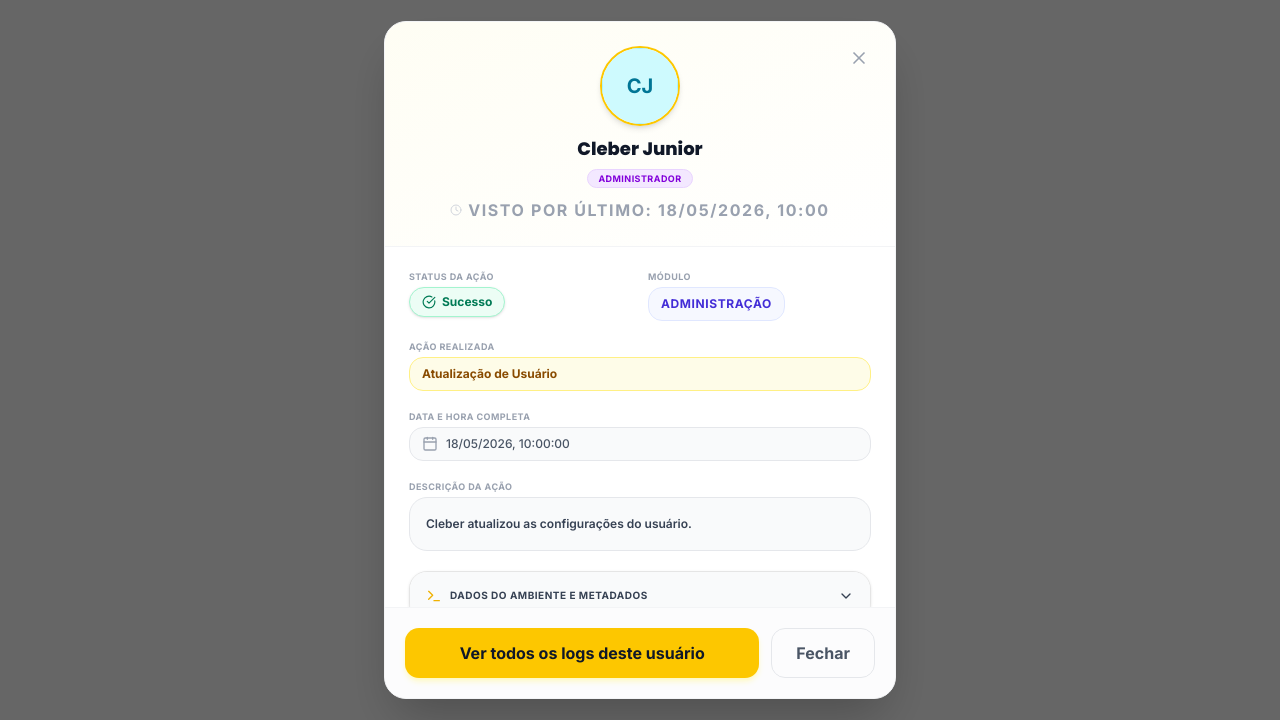
Scenario: LogDetailModal Component › deve manter a seção colapsável fechada por padrão e abri-la ao clicar
Expected: the text "Visto por último: 18/05/2026, 10:00" is shown, [468, 198, 830, 222]
Expected: the text "192.168.0.xxx" is not shown
Note: Clica no botão de expandir dados do ambiente
Click the button "Dados do Ambiente e Metadados".
click(640, 596)  # box [410, 572, 870, 620]
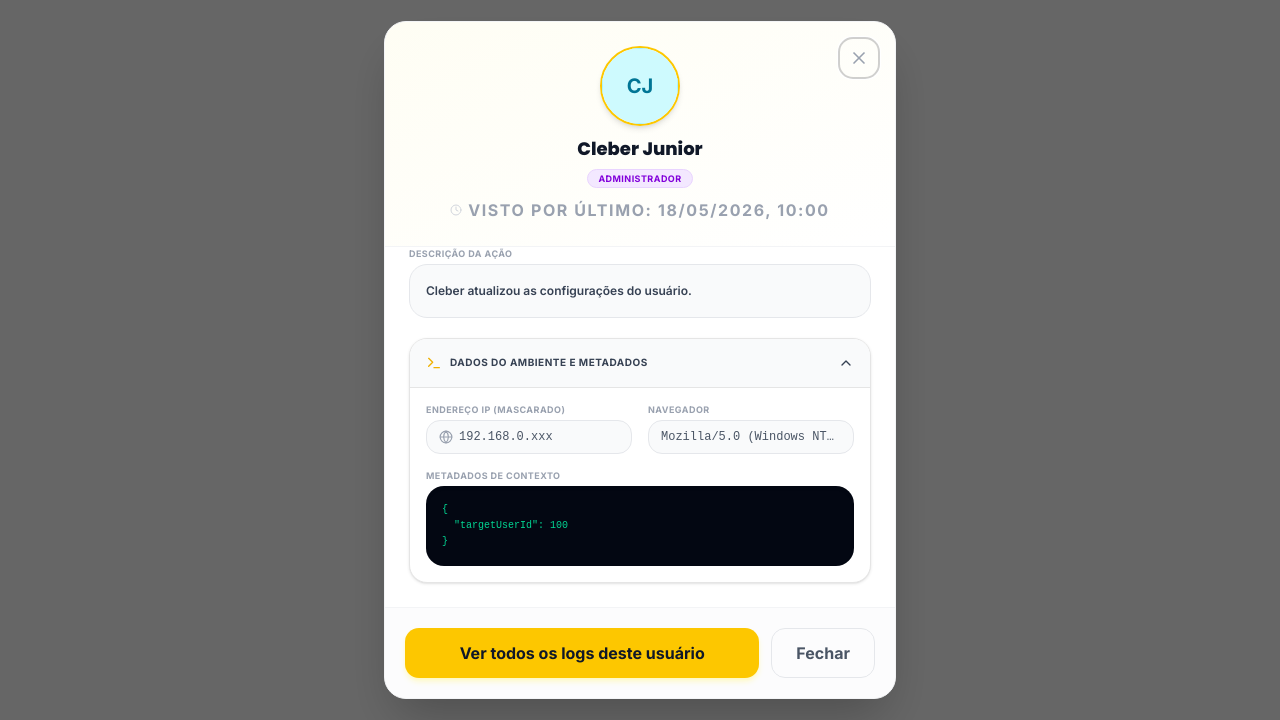
Result: the text "192.168.0.xxx" is shown at [426, 420, 632, 454]
Result: the text "{ \"targetUserId\": 100 }" is shown at [442, 504, 568, 547]
